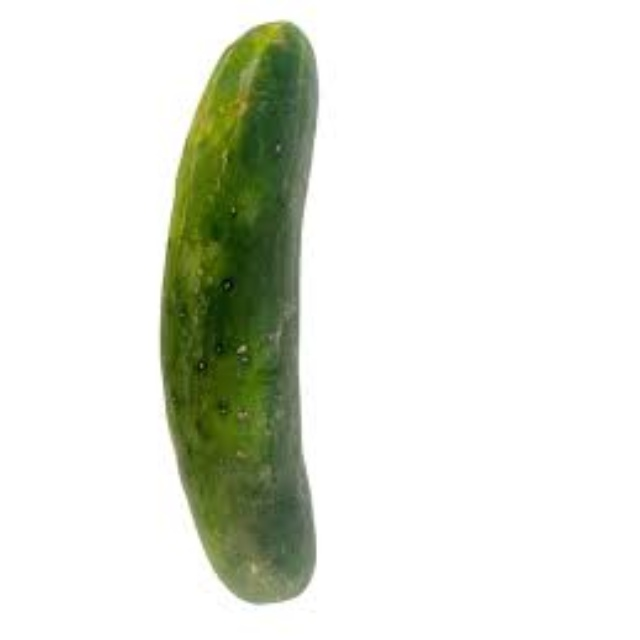dua_leo: (157, 23, 331, 607)
